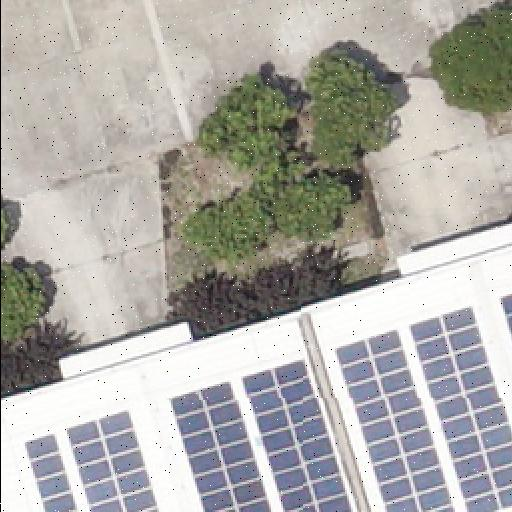solar-panel: (332, 329, 456, 511), (408, 305, 512, 511), (240, 358, 352, 512), (168, 384, 272, 512), (65, 409, 159, 511), (25, 433, 79, 511), (497, 294, 511, 342)
